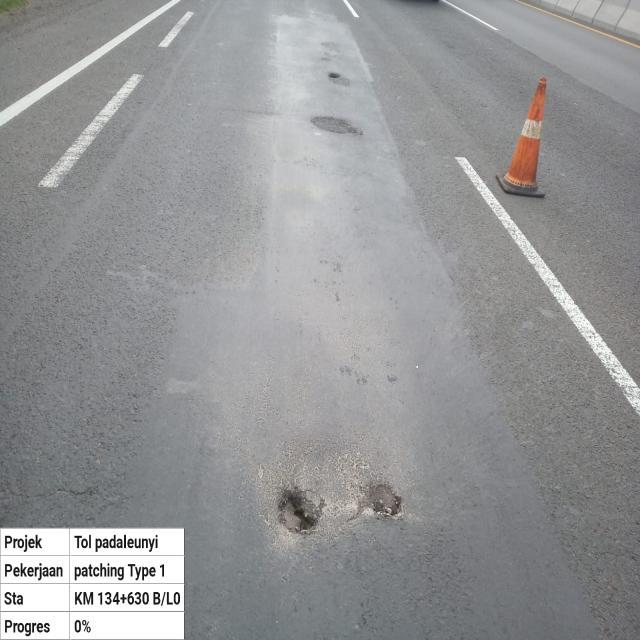Buraco: (342, 478, 408, 530), (271, 482, 330, 540), (308, 114, 367, 138), (326, 70, 343, 80)
